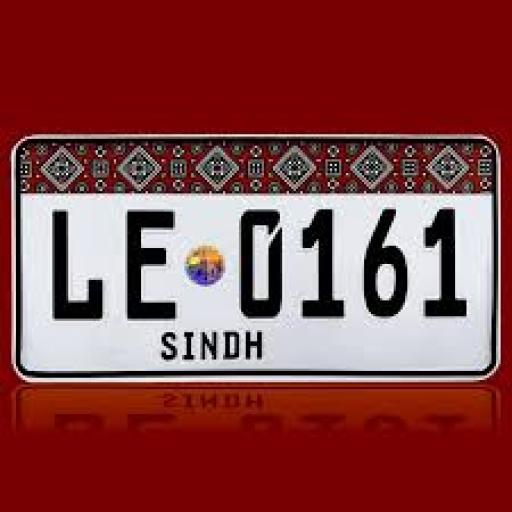0: (240, 209, 290, 317)
1: (419, 207, 469, 322), (298, 209, 346, 325)
6: (360, 207, 414, 320)
E: (120, 207, 180, 320)
L: (48, 206, 105, 326)
